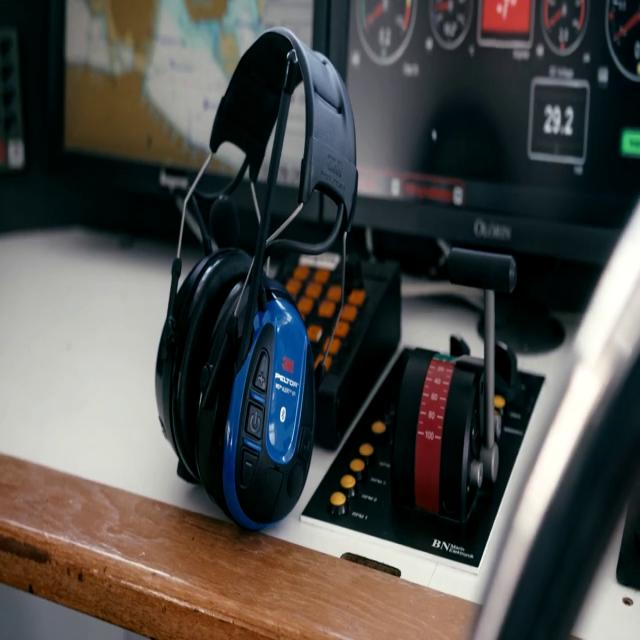earmuff: (188, 268, 318, 541)
